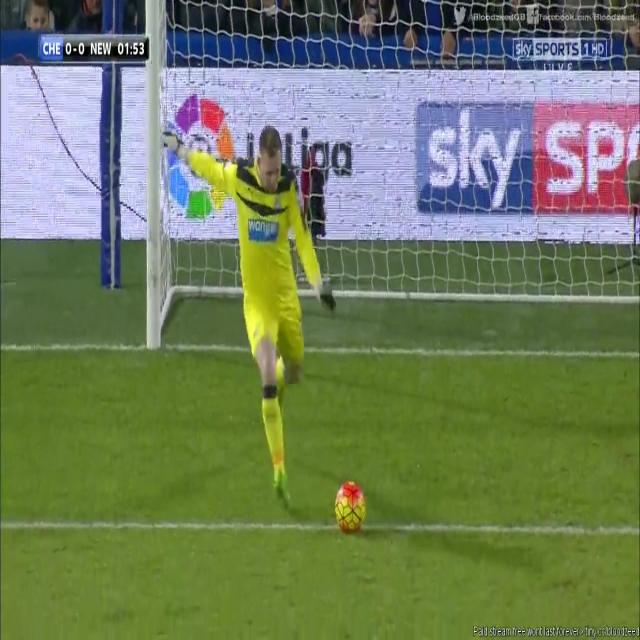Ball: (333, 478, 366, 538)
Goalkeeper: (160, 122, 334, 516)
